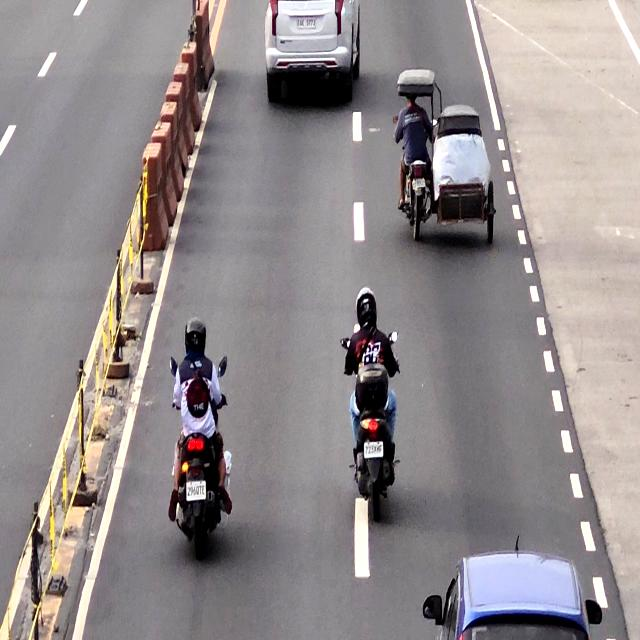Car: (439, 552, 597, 640), (266, 0, 361, 100)
License-Plate: (362, 439, 386, 460), (293, 14, 317, 32), (184, 482, 206, 500), (411, 176, 426, 190)
Motorcycle: (167, 316, 231, 552), (343, 290, 395, 519)
Tricycle: (394, 64, 498, 250)
